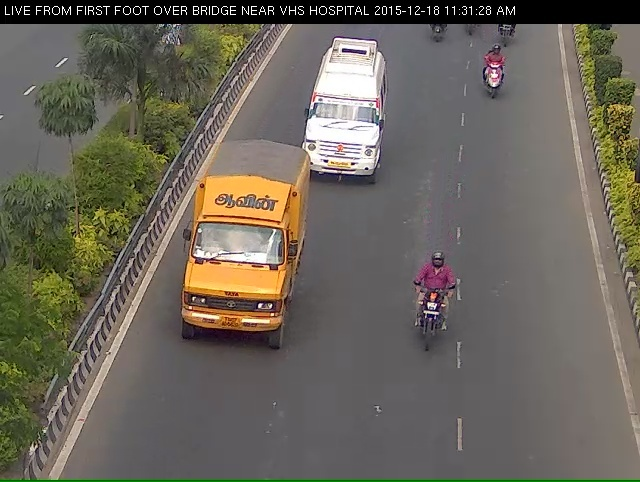Bus: (185, 162, 300, 378), (300, 50, 388, 198)
Person: (400, 277, 458, 384), (479, 59, 513, 112), (492, 19, 523, 52)
